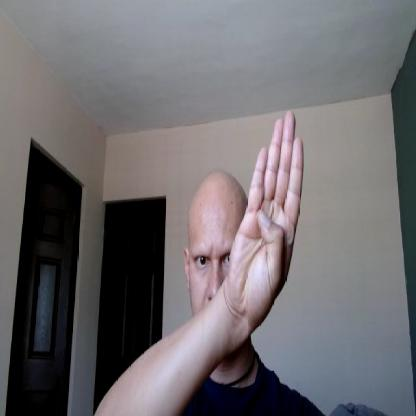B: (230, 110, 304, 328)
